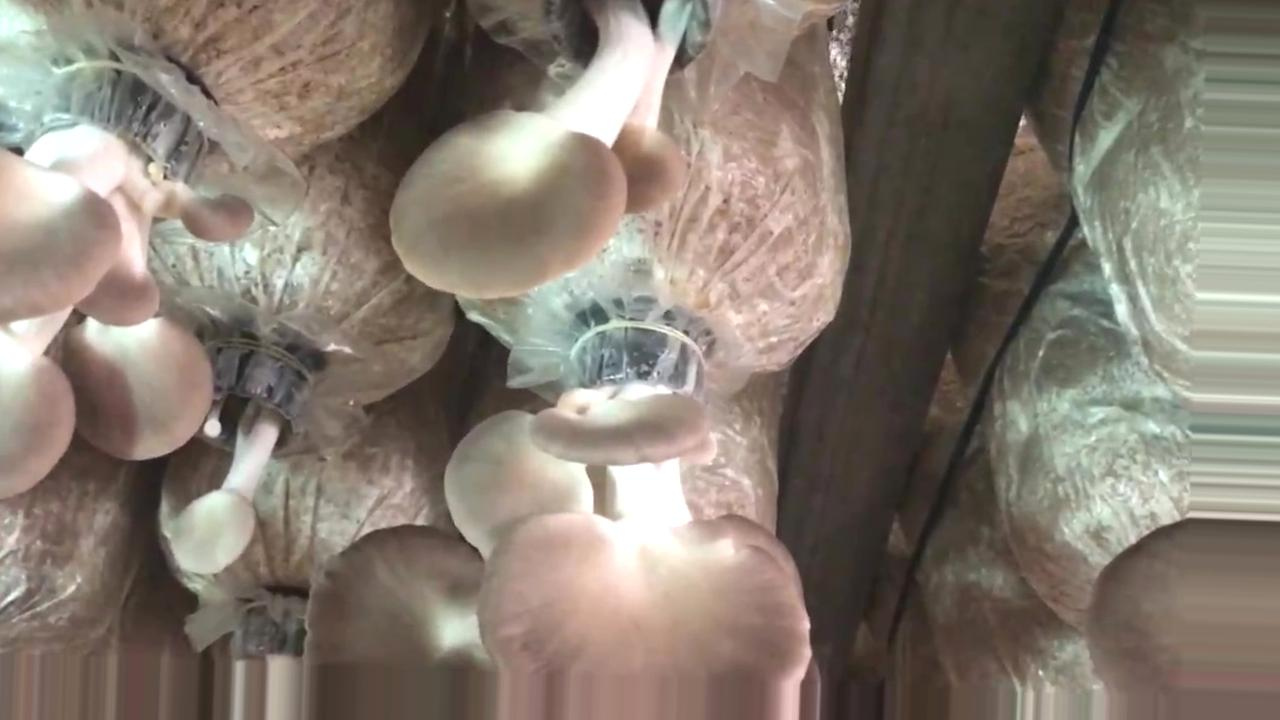nam: (306, 330, 810, 720), (1, 65, 256, 492), (388, 1, 714, 300), (1091, 520, 1279, 714), (172, 329, 316, 570)
